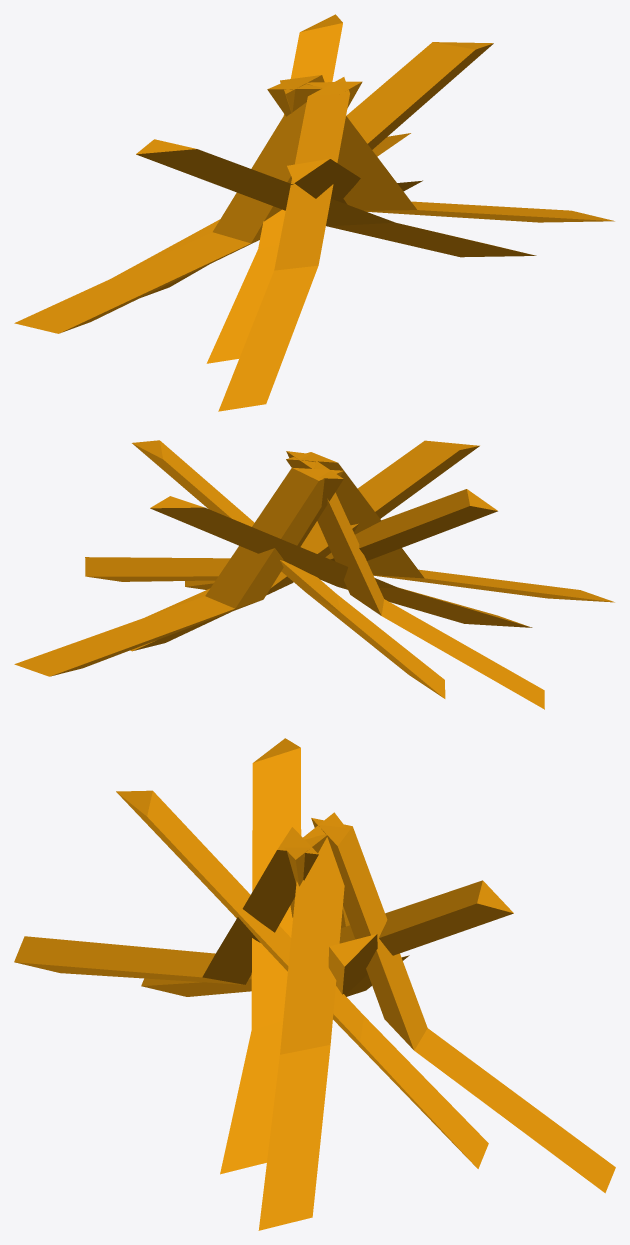
Rendered from tuft_orange.fbx.
3 renders of one model, top to bottom at view 1: azimuth 30°, elevation 25°; view 2: azimuth 150°, elevation 25°; view 3: azimuth 270°, elevation 25°, orthographic. The views are drawn at different scales.
Visible parts, largest first — view 1: tuft_orange; view 2: tuft_orange; view 3: tuft_orange.
Boxes of the visible parts, x1=… form: tuft_orange: x1=14, y1=14, x2=614, y2=411; tuft_orange: x1=14, y1=440, x2=614, y2=709; tuft_orange: x1=14, y1=738, x2=615, y2=1230.
Bounding box in the file's own units: 73.3 × 23.54 × 56.15.
